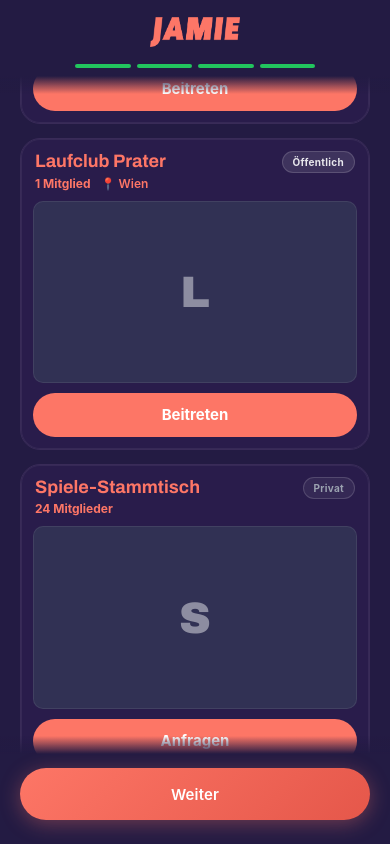
Test: OnboardingClubs — joining › maps JOIN_REQUEST_PENDING onto the button
(page scrolled)
Click the button "Beitreten" below "Laufclub Prater" at (195,415), box [33,393,357,437]
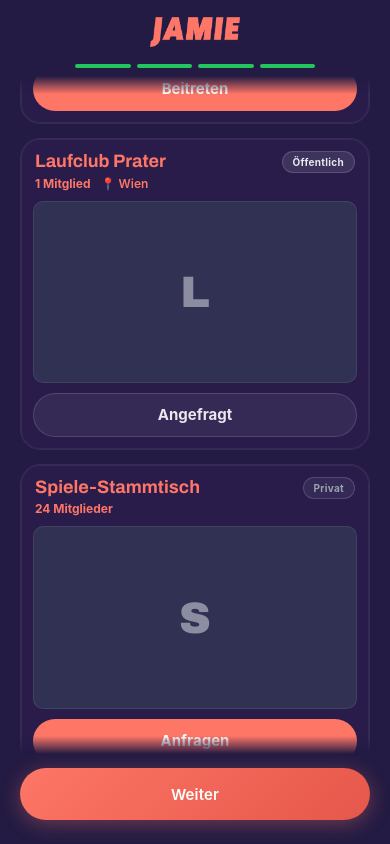
Result: the button "Angefragt" is shown at [33,393,357,437]
Result: the button "Angefragt" is disabled at [33,393,357,437]
